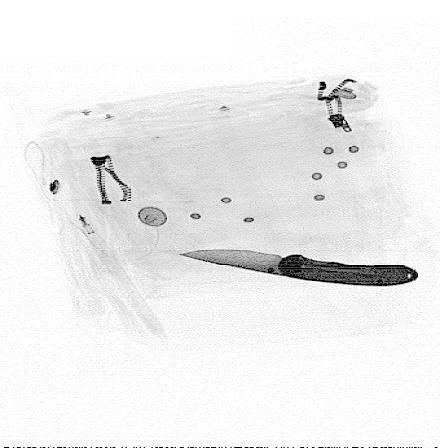Knife: (173, 248, 422, 288)
